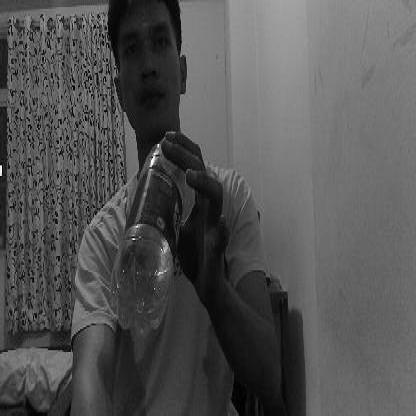plastic_bottles: (108, 134, 195, 324)
